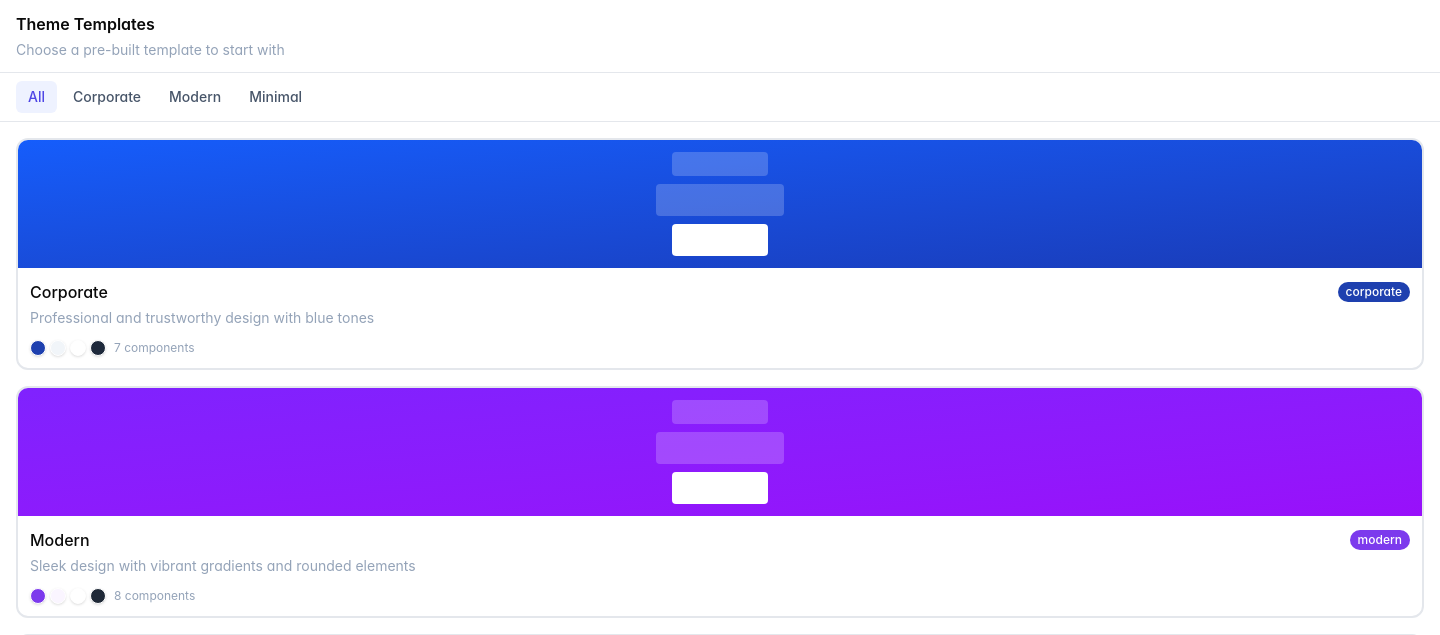
Test: ThemeBuilderPage E2E Tests › Theme Templates › filters templates by category
// Click on Modern category
Click the button with test id "template-category-modern". click: click(195, 97)
box: [157,81,233,113]
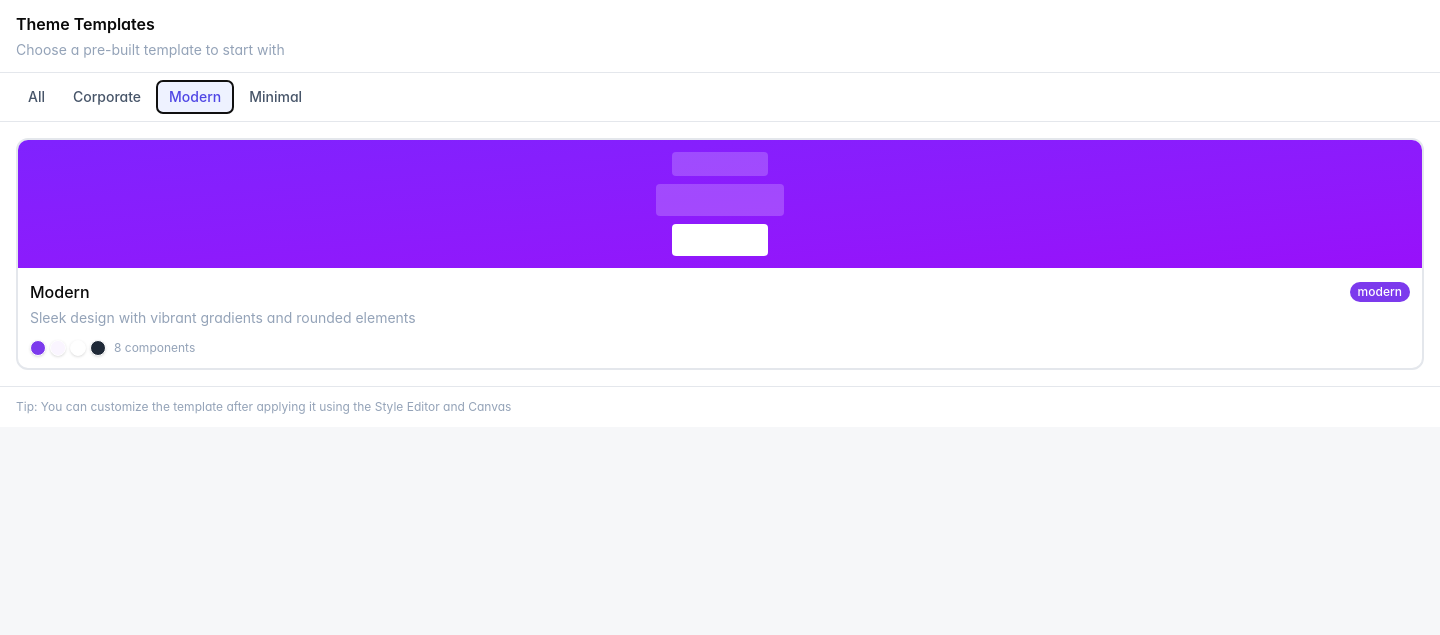
Expected: the button with test id "template-card-modern" is shown, [16,138,1424,370]
Now the button with test id "template-card-corporate" is gone
